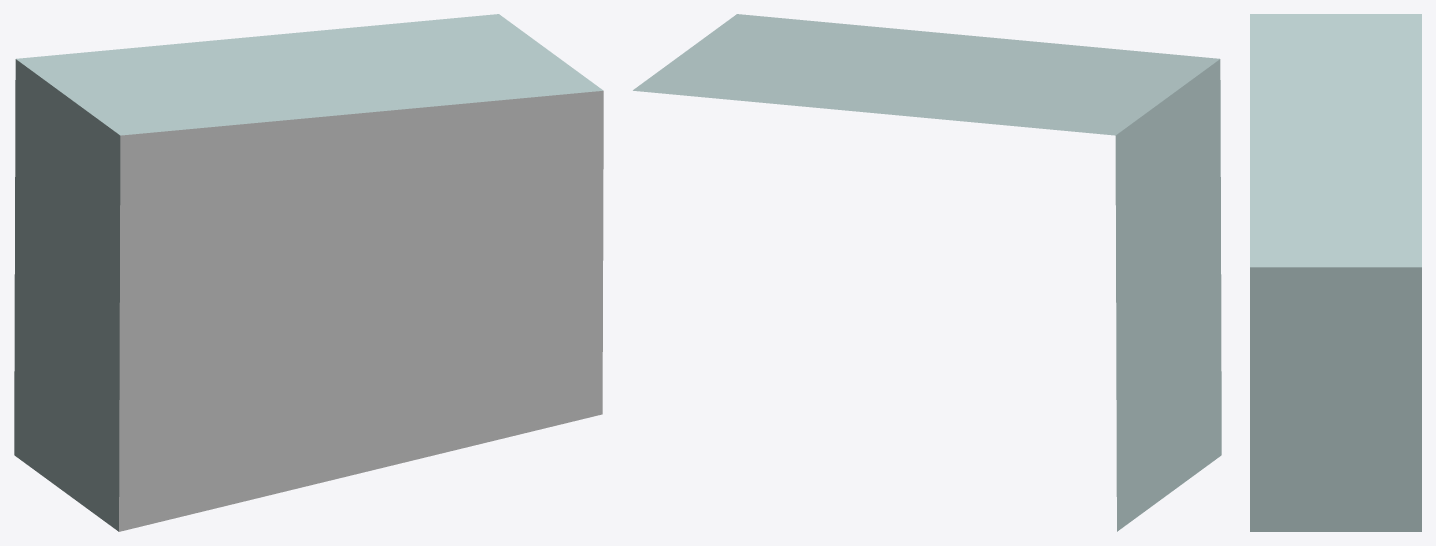
The picture shows the model from 3 angles, left to right: view 1: azimuth 30°, elevation 25°; view 2: azimuth 150°, elevation 25°; view 3: azimuth 270°, elevation 25°; orthographic projection. The views are drawn at different scales.
Visible parts, largest first — view 1: 0_3_1_2_3_3_1_0_3; view 2: 0_3_1_2_3_3_1_0_3; view 3: 0_3_1_2_3_3_1_0_3.
Part boxes in pixels (bbox=[...]): 0_3_1_2_3_3_1_0_3: bbox=[14, 14, 603, 531]; 0_3_1_2_3_3_1_0_3: bbox=[633, 14, 1221, 531]; 0_3_1_2_3_3_1_0_3: bbox=[1250, 14, 1421, 531].
Size of the model in its own units: 8.01 by 6.26 by 3.
